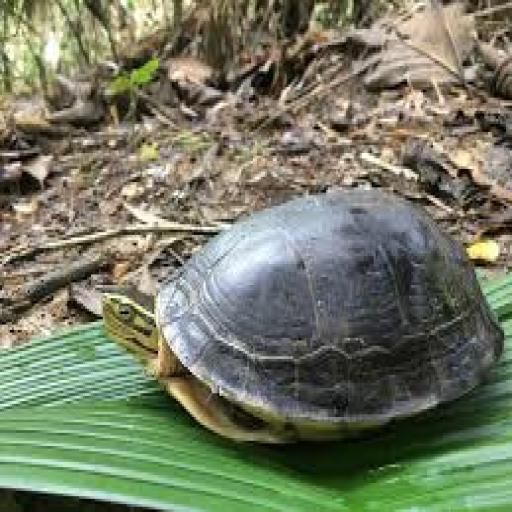turtle: (98, 175, 506, 451)
